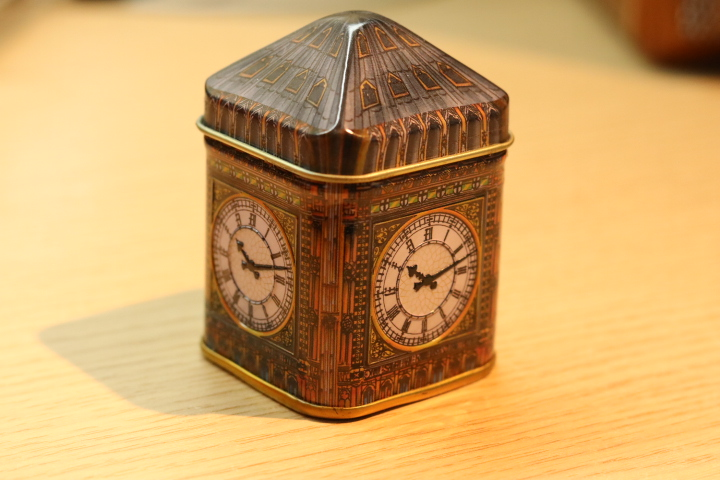Big Ben: (191, 7, 527, 432)
